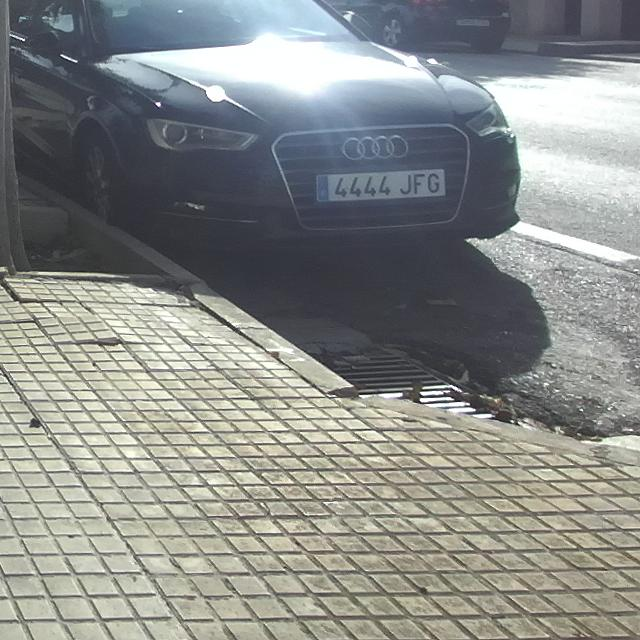calcada_quebrada: (51, 329, 129, 352), (10, 296, 79, 308), (0, 270, 17, 296)
